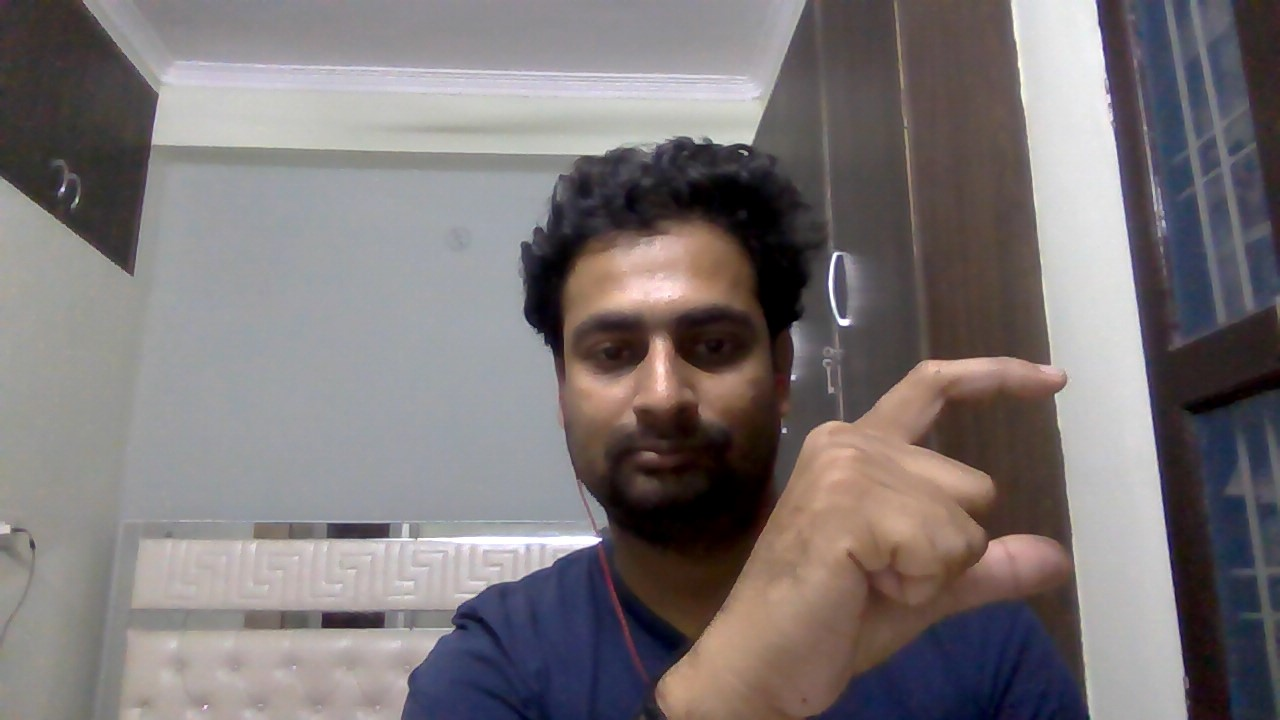Paste: (708, 331, 1088, 679)
